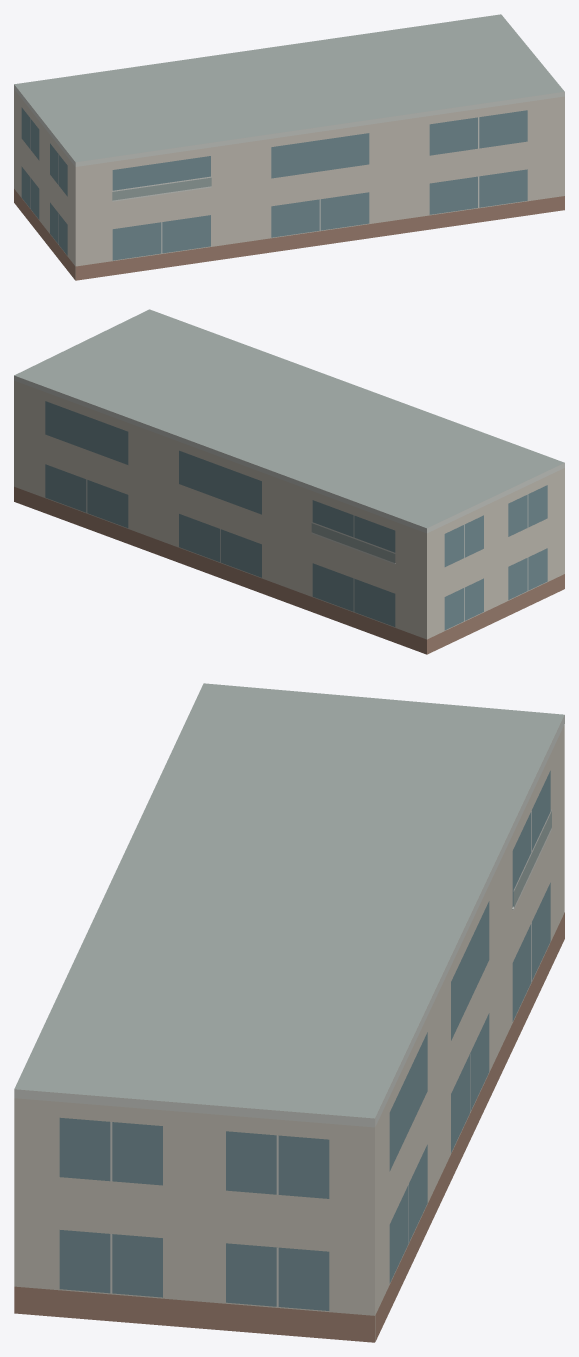
The model's file is survey-upis-32939502.glb.
The picture shows the model from 3 angles, top to bottom: view 1: azimuth 30°, elevation 25°; view 2: azimuth 150°, elevation 25°; view 3: azimuth 270°, elevation 25°; orthographic projection. The views are drawn at different scales.
Visible parts, largest first — view 1: survey-upis-32939502.tmp; view 2: survey-upis-32939502.tmp; view 3: survey-upis-32939502.tmp.
Part boxes in pixels (x1,y1,x2,y2): survey-upis-32939502.tmp: (14,14,564,280); survey-upis-32939502.tmp: (14,309,564,654); survey-upis-32939502.tmp: (14,683,564,1342).
Bounding box in the file's own units: 25.41 × 6.1 × 13.59.
